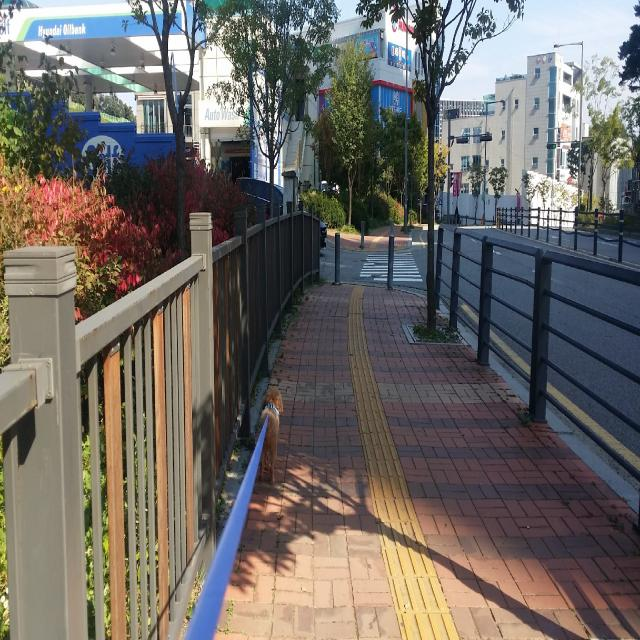횡단보도: (360, 252, 423, 282)
